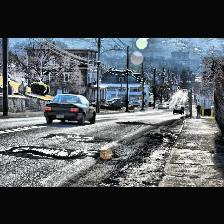pothole: (2, 144, 85, 158), (42, 132, 98, 142), (116, 120, 146, 124)
